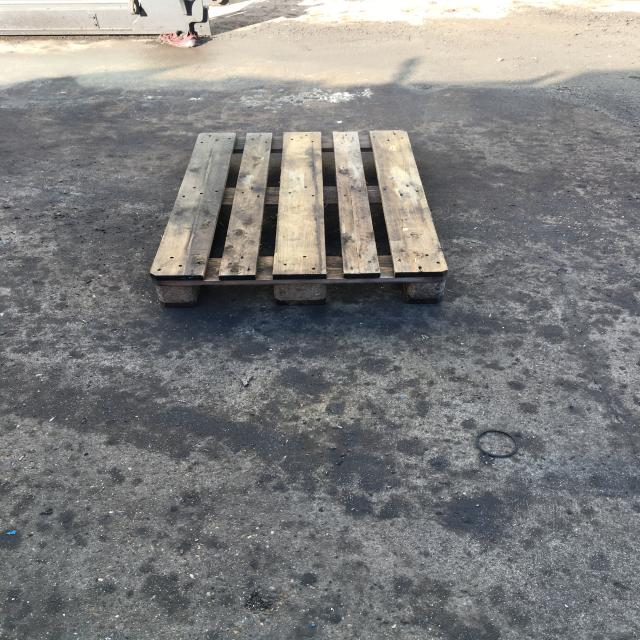block: (270, 275, 334, 304), (149, 275, 200, 308), (403, 276, 454, 302)
front: (145, 270, 452, 306)
